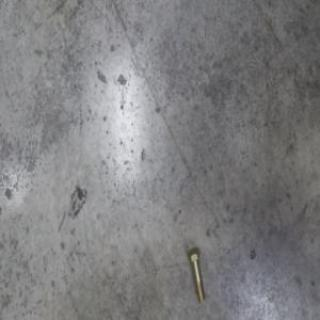Bolttrack_idkeyframe: (185, 244, 204, 301)
